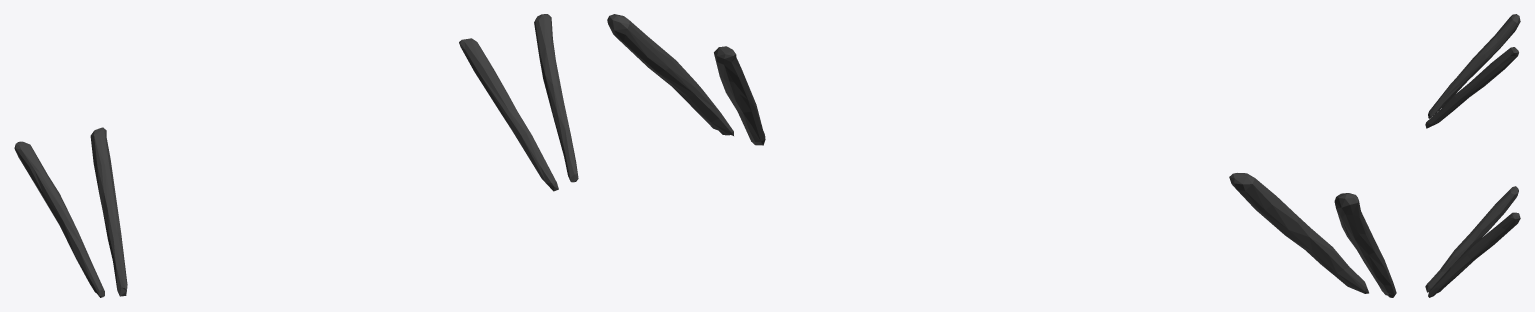
Rendered from lig_oblique_sesamoid_FL.glb.
3 renders of one model, left to right at view 1: azimuth 30°, elevation 25°; view 2: azimuth 150°, elevation 25°; view 3: azimuth 270°, elevation 25°, orthographic. The views are drawn at different scales.
Parts seen in each view (by area): view 1: lig_oblique_sesamoid_FL; view 2: lig_oblique_sesamoid_FL; view 3: lig_oblique_sesamoid_FL.
Boxes of the visible parts, box(x1,y1,x2,y2) form: lig_oblique_sesamoid_FL: box(14, 14, 578, 297); lig_oblique_sesamoid_FL: box(607, 14, 1396, 297); lig_oblique_sesamoid_FL: box(1425, 14, 1520, 297).
Size of the model in its own units: 0.00383 by 0.000842 by 0.000758.
Materials: 1 (1 with a texture image).
